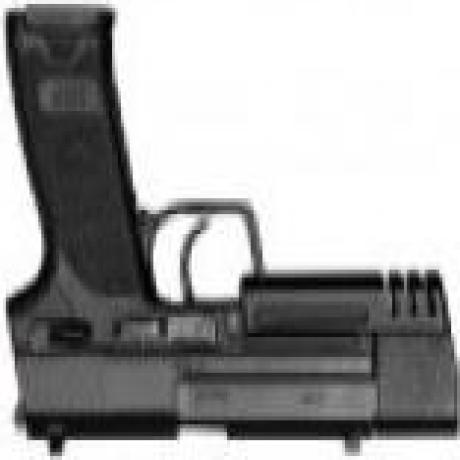weapon: (12, 8, 460, 460)
